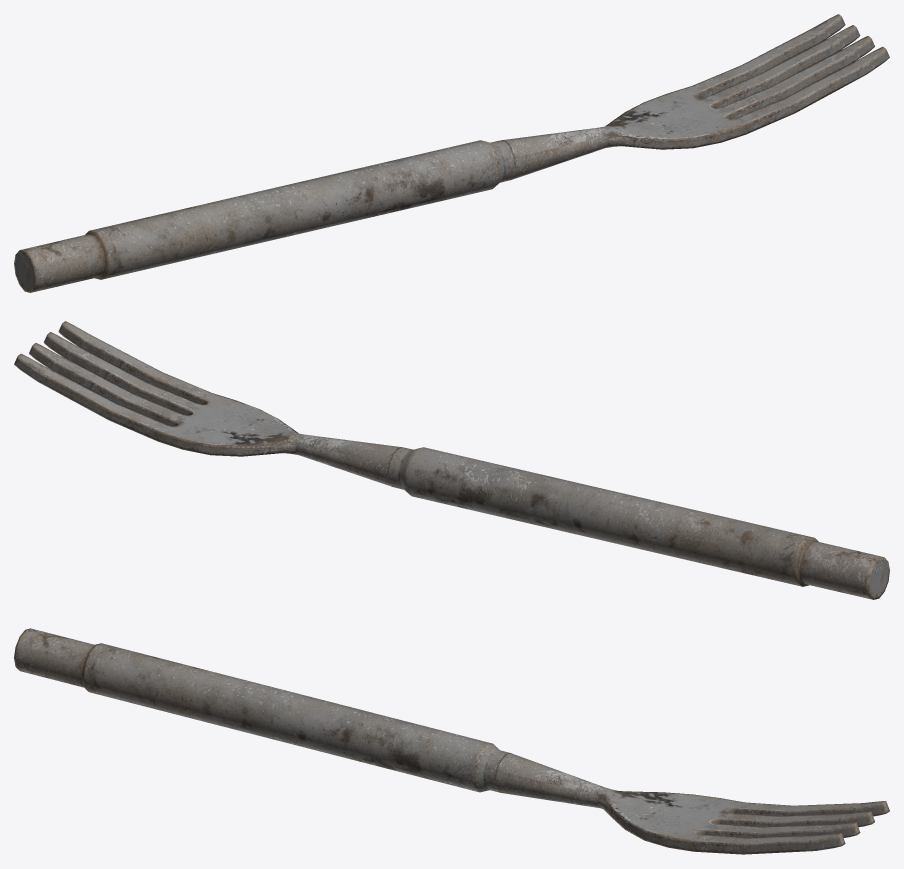
Rendered from SM_Kitchenware04_1_LOD0.glb.
The picture shows the model from 3 angles, top to bottom: view 1: azimuth 30°, elevation 25°; view 2: azimuth 150°, elevation 25°; view 3: azimuth 330°, elevation 25°; orthographic projection.
Visible parts, largest first — view 1: SM_Kitchenware04_1_LOD0; view 2: SM_Kitchenware04_1_LOD0; view 3: SM_Kitchenware04_1_LOD0.
Part boxes in pixels (x1=…): SM_Kitchenware04_1_LOD0: x1=14, y1=14, x2=889, y2=292; SM_Kitchenware04_1_LOD0: x1=14, y1=321, x2=889, y2=599; SM_Kitchenware04_1_LOD0: x1=14, y1=628, x2=889, y2=854.
Bounding box in the file's own units: 0.3709 × 0.0272 × 0.0406.
1 material, 1 textured.
